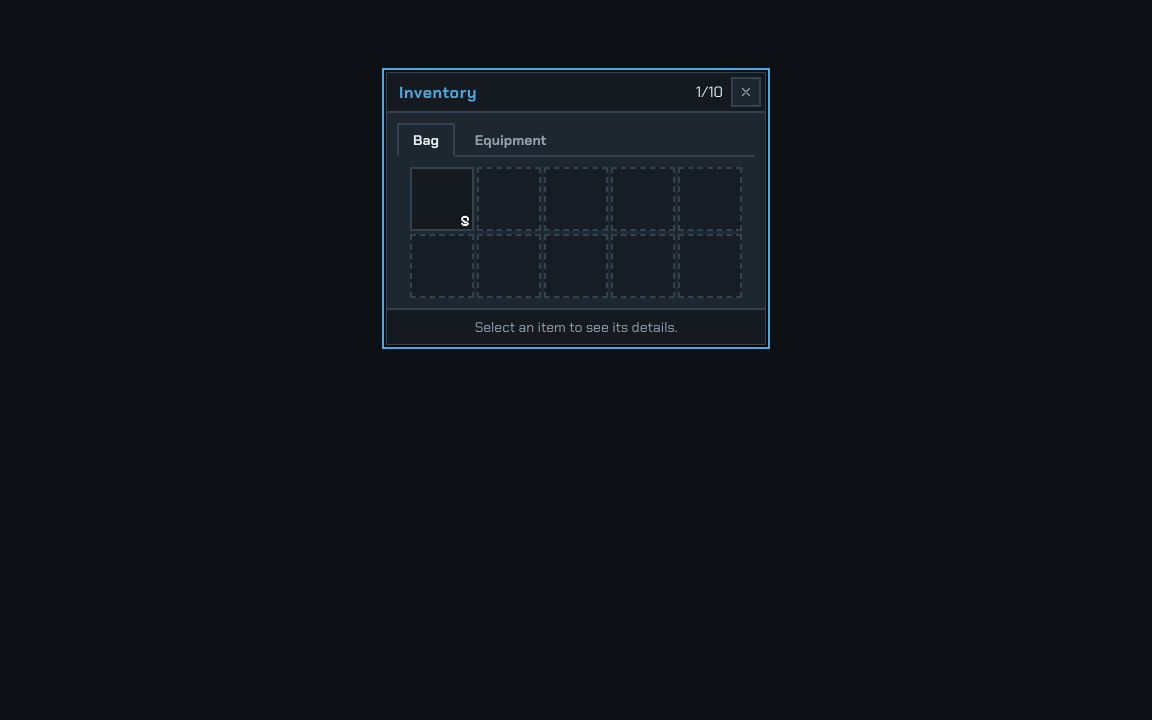
InventoryPanel › hands the picked item to an open trade, and only while it is open
This screenshot has width=1152, height=720.
Click the button named "Potion, 5" at [442, 199], box [410, 167, 474, 231]
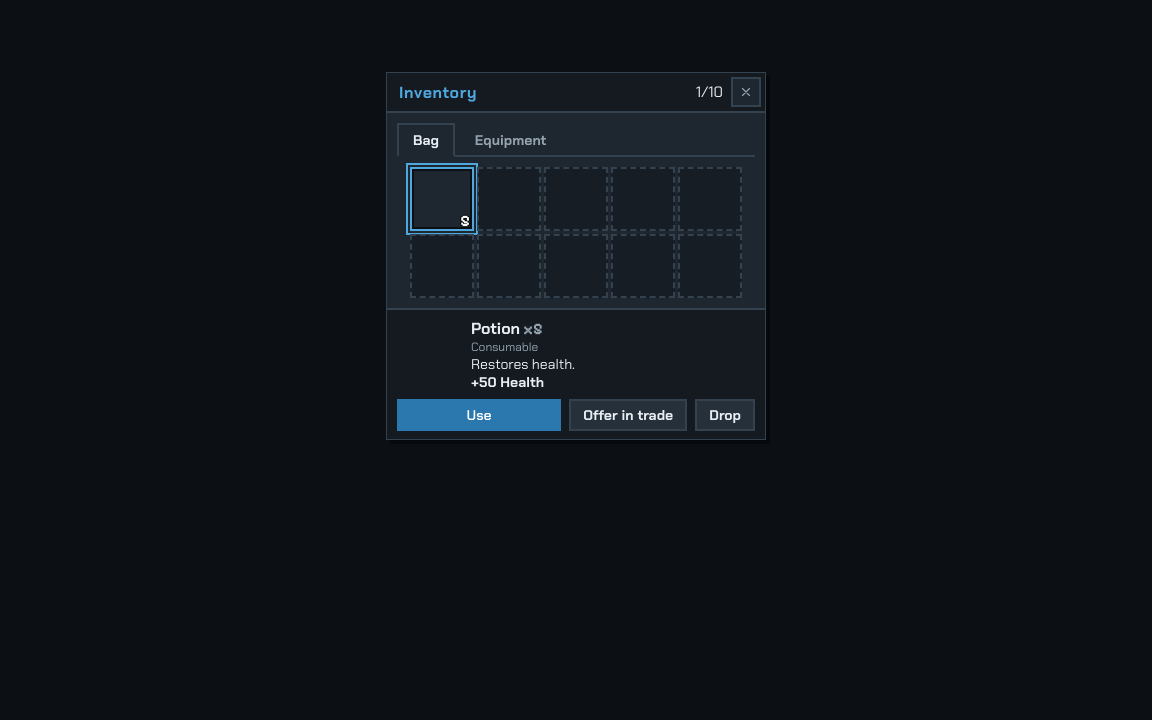
Click the button "Offer in trade" at [628, 415], box [569, 399, 687, 431]
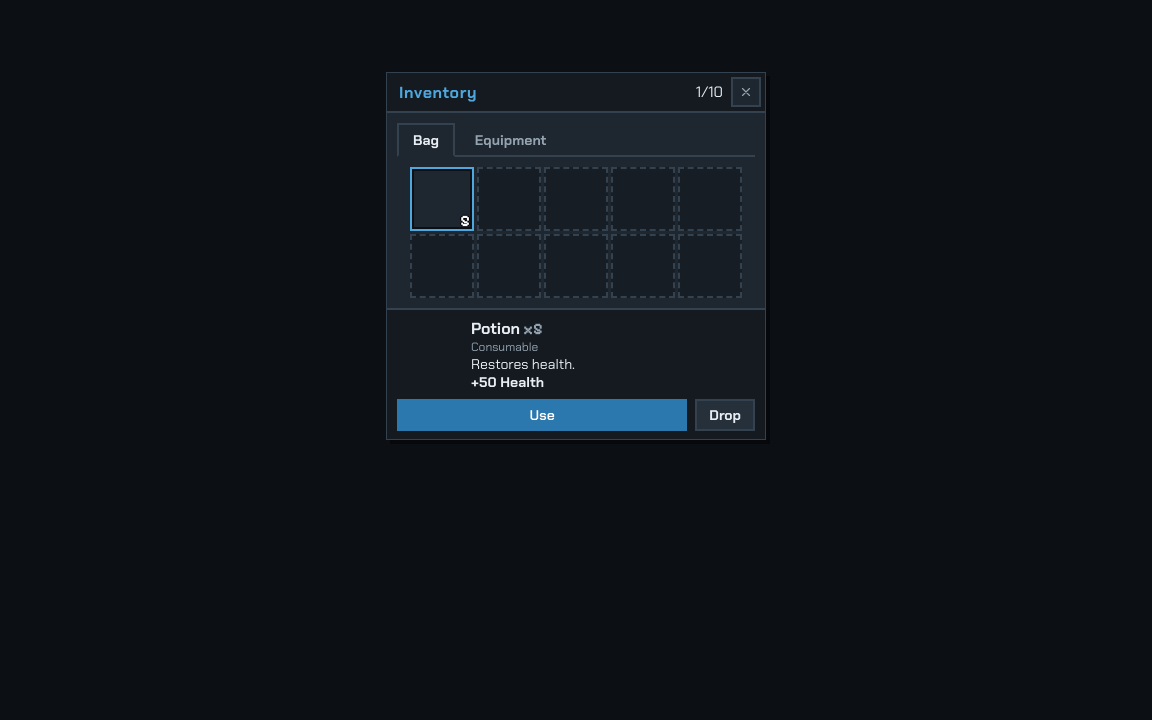
expect the button "Offer in trade" is gone: met
